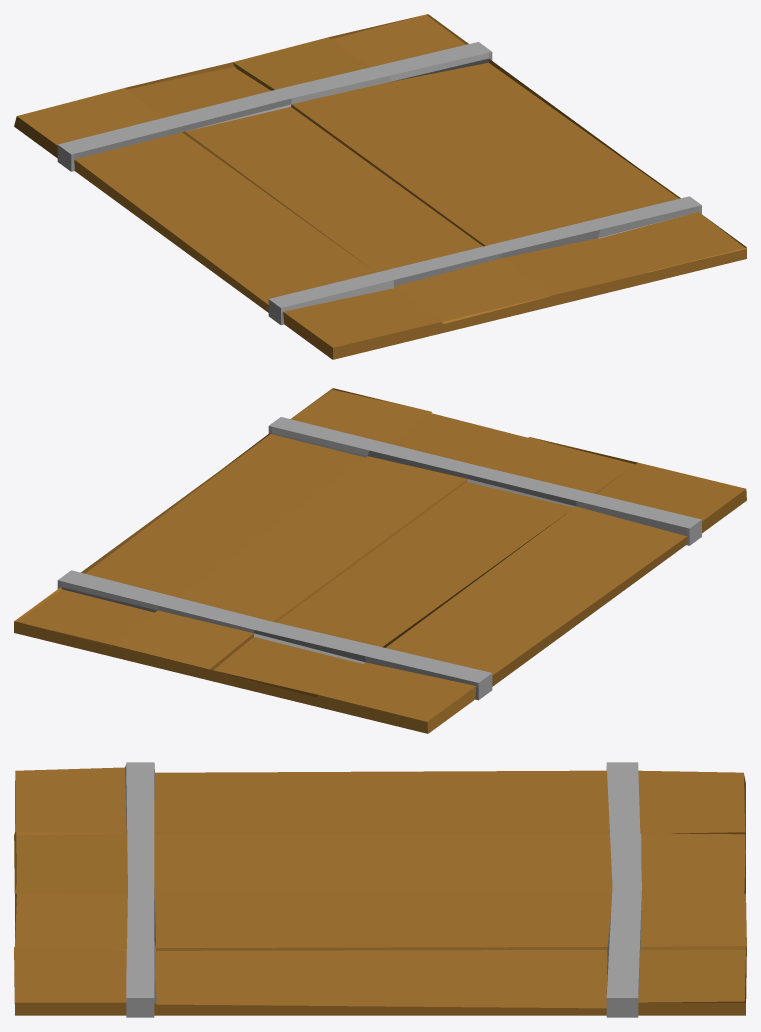
File: ChestLid.glb
The picture shows the model from 3 angles, top to bottom: view 1: azimuth 30°, elevation 25°; view 2: azimuth 150°, elevation 25°; view 3: azimuth 270°, elevation 25°; orthographic projection. The views are drawn at different scales.
Visible parts, largest first — view 1: Lid; view 2: Lid; view 3: Lid.
Boxes of the visible parts, <box> form: Lid: <box>14,14,746,359</box>; Lid: <box>14,388,746,733</box>; Lid: <box>14,762,746,1017</box>.
Bounding box in the file's own units: 1.14 × 0.045 × 1.5.
